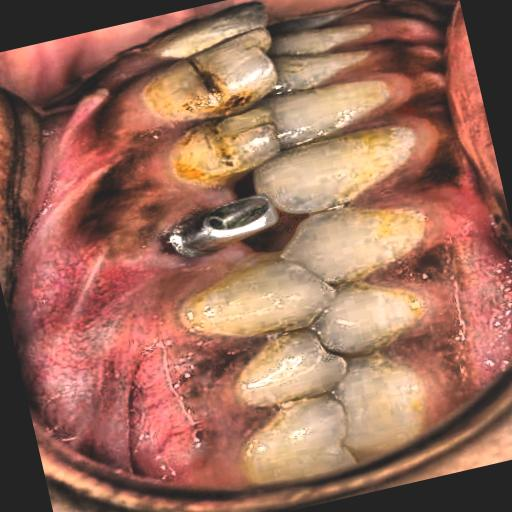Gingivitis: (12, 31, 279, 512), (325, 0, 512, 434)
